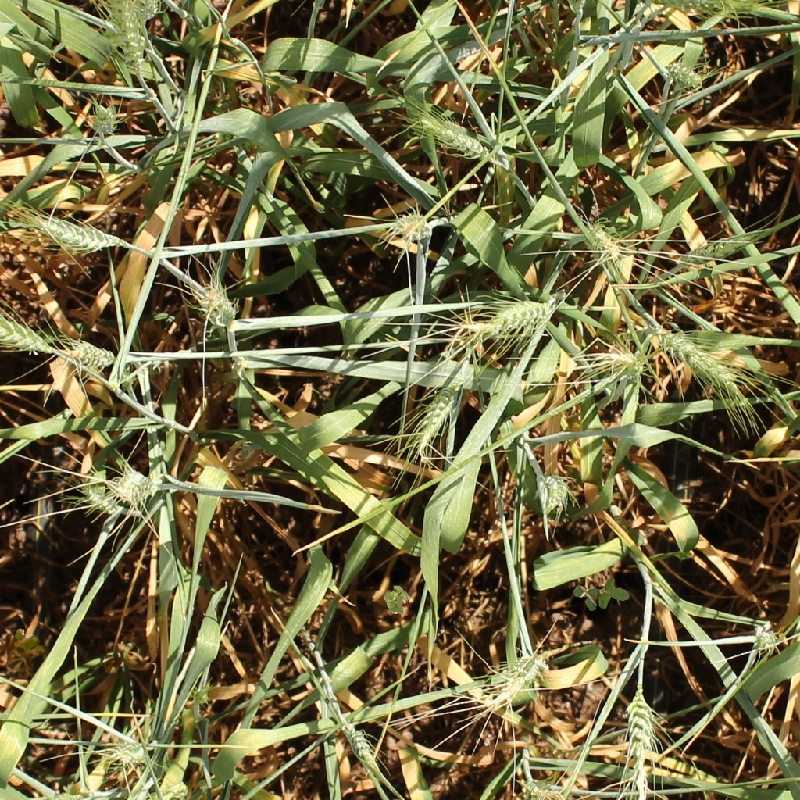spikelet: (653, 324, 742, 387), (414, 105, 500, 163), (465, 293, 557, 343), (619, 689, 659, 799), (410, 376, 464, 454), (482, 649, 549, 709), (34, 211, 123, 253), (110, 1, 150, 73), (1, 305, 57, 355), (580, 218, 625, 264), (110, 465, 157, 506), (197, 282, 238, 328), (64, 337, 117, 372), (388, 207, 435, 245), (598, 346, 646, 382), (533, 470, 571, 515), (339, 718, 377, 763), (107, 731, 152, 768), (78, 479, 123, 516), (688, 233, 746, 261), (86, 99, 122, 139), (663, 58, 705, 90), (518, 776, 567, 800), (750, 620, 782, 652), (382, 585, 408, 615)
weed: (1, 622, 55, 686), (570, 569, 629, 606), (379, 582, 413, 618)
